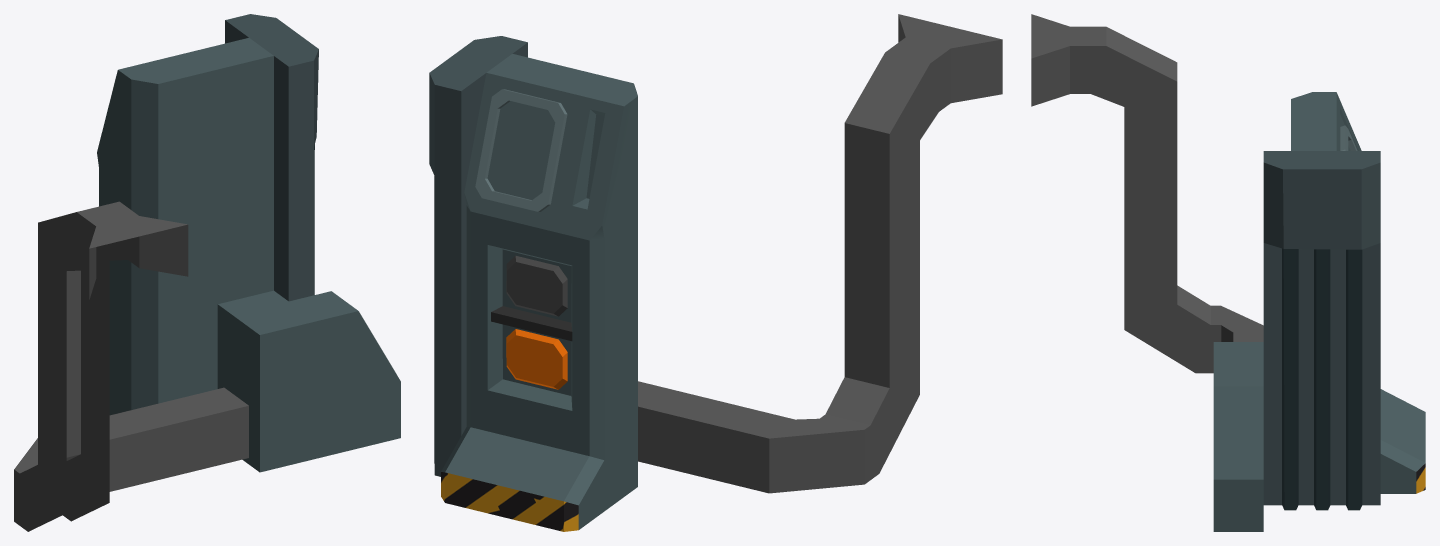
File: SM_switch_clone_false.fbx
3 renders of one model, left to right at view 1: azimuth 30°, elevation 25°; view 2: azimuth 150°, elevation 25°; view 3: azimuth 270°, elevation 25°, orthographic. The views are drawn at different scales.
Visible parts, largest first — view 1: SM_switch_clone_false; view 2: SM_switch_clone_false; view 3: SM_switch_clone_false.
Part boxes in pixels (<box>): SM_switch_clone_false: <box>14,14,400,531</box>; SM_switch_clone_false: <box>429,14,1002,531</box>; SM_switch_clone_false: <box>1031,14,1425,531</box>.
Size of the model in its own units: 97.86 by 84.76 by 88.43.
Materials: 1 (1 with a texture image).
